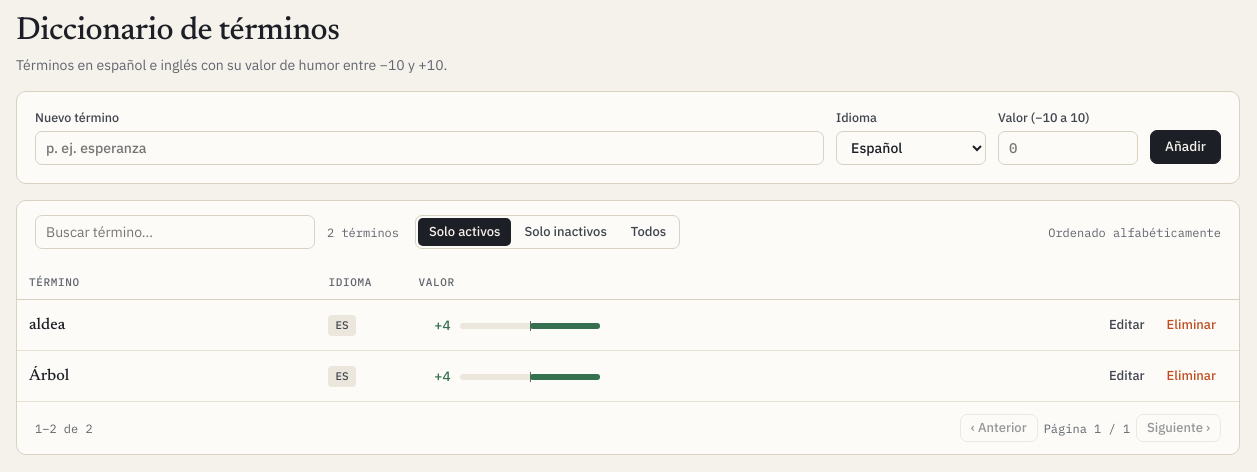
Test: DictionaryPage › uses the upper language selector to filter the table and combines with status
Check: the text "Árbol" is shown, box [29,368,69,384]
Click the button "Todos" at x=648, y=232, box [620,218,677,246]
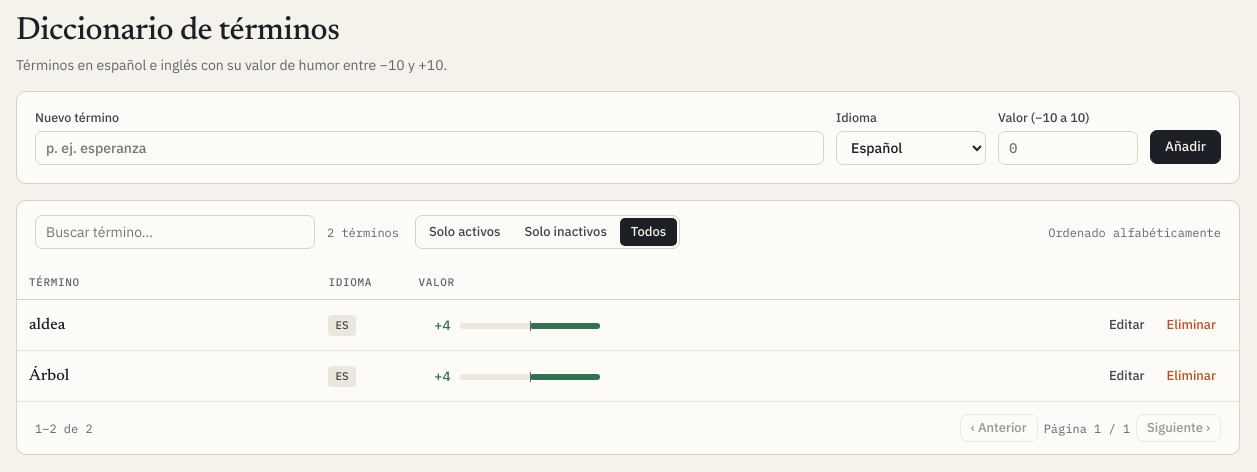
Check: the text "aldea" is shown, box [29,317,65,333]
Check: the text "Zorro" is not shown
Select "Inglés" in the dropdown labelled "Idioma" at x=911, y=148, box [836,131,986,165]
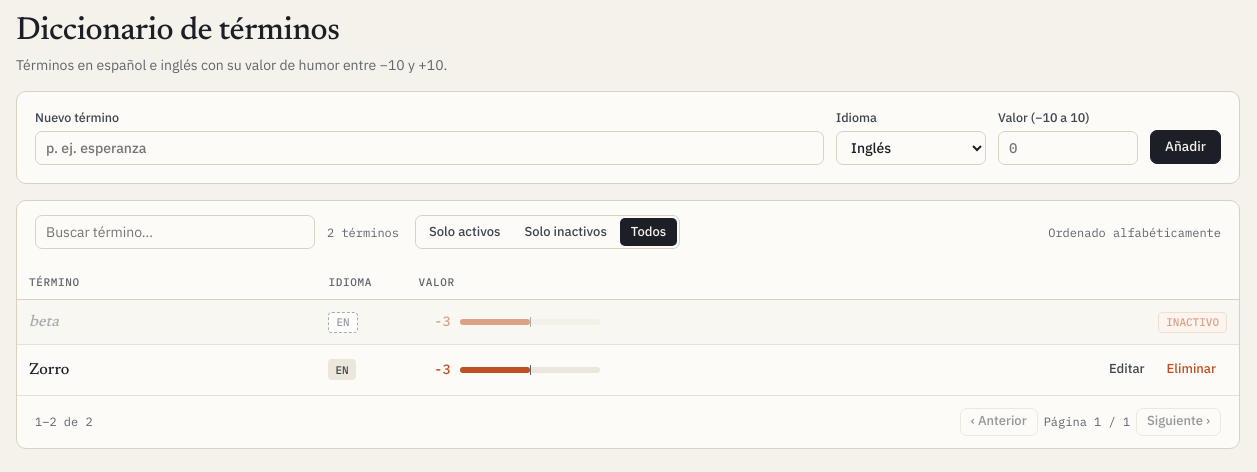
Check: the text "Zorro" is shown, box [29,362,69,378]
Check: the text "beta" is shown, box [29,314,59,330]
Check: the text "aldea" is gone
Click the button "Solo inactivos" at x=566, y=232, box [513,218,618,246]
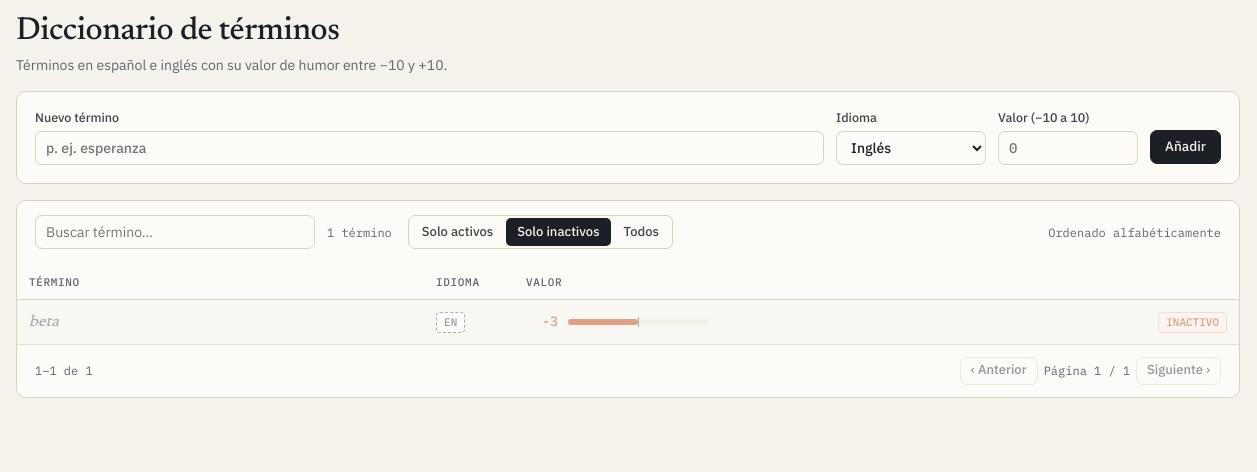
Check: the text "beta" is shown, box [29,314,59,330]
Check: the text "Zorro" is gone
